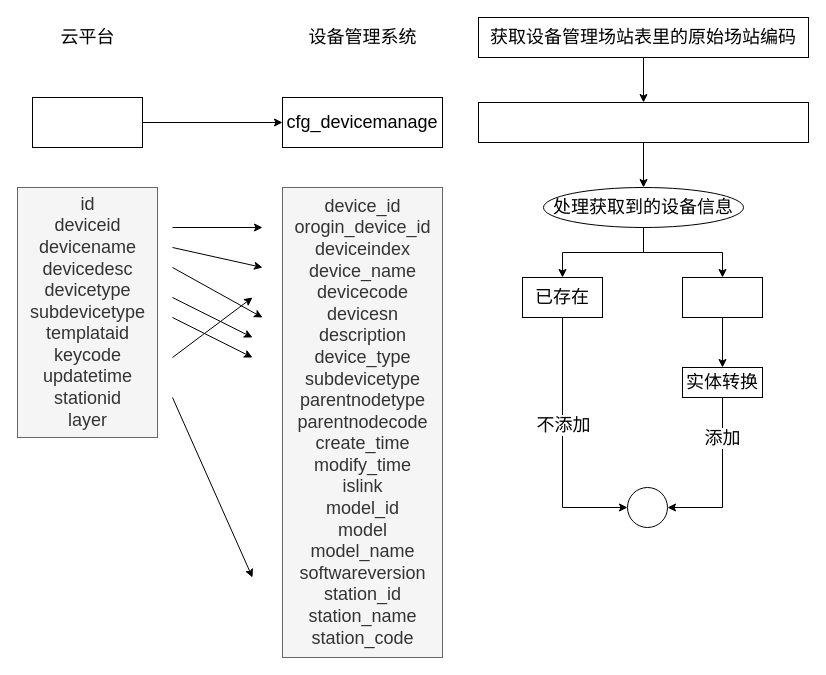
Some shapes in this 826 by 675 pixel diagram are drawn without their labels. Each missing label, with the centre of its shape:
cfg_devicevo: point 87,122
不存在: point 722,297
根据原始场站编码列表查云平台的设备: point 643,122
